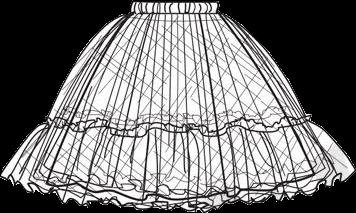Hemline: (0, 170, 355, 212)
Waistline: (44, 119, 308, 137), (130, 10, 217, 15), (132, 0, 219, 4)
